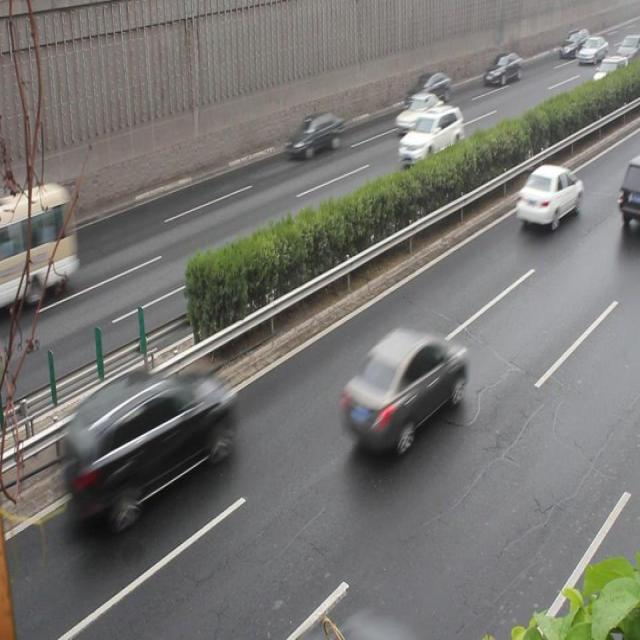car: (66, 370, 231, 518), (340, 328, 464, 452), (516, 163, 580, 229), (397, 106, 462, 159), (287, 110, 344, 159), (394, 92, 444, 138), (403, 72, 450, 107), (482, 51, 522, 88)
